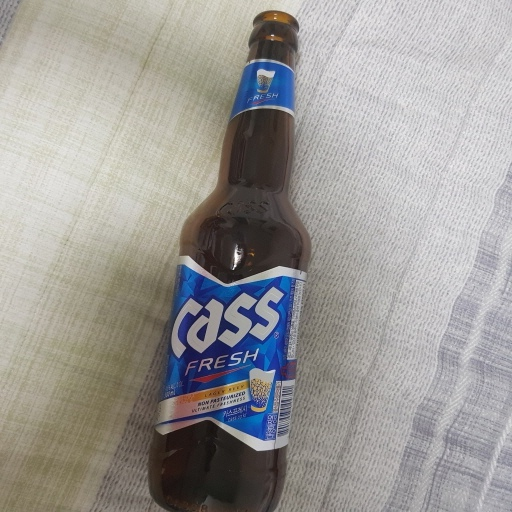Glass_1: (143, 4, 315, 512)
